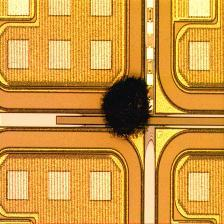PARTICLE: (94, 71, 166, 143)
